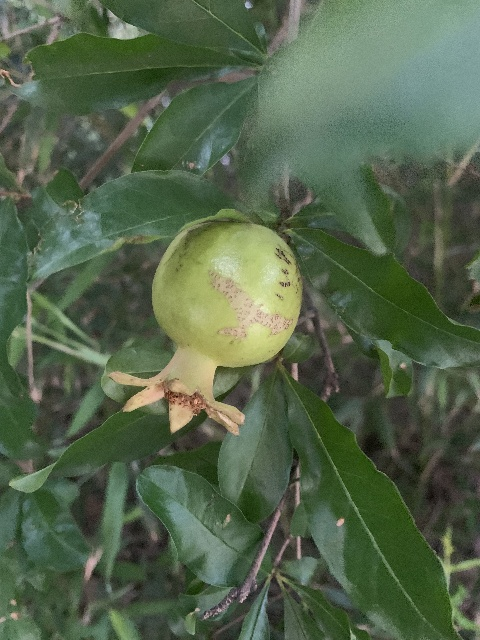mid-growth: (106, 221, 302, 438)
